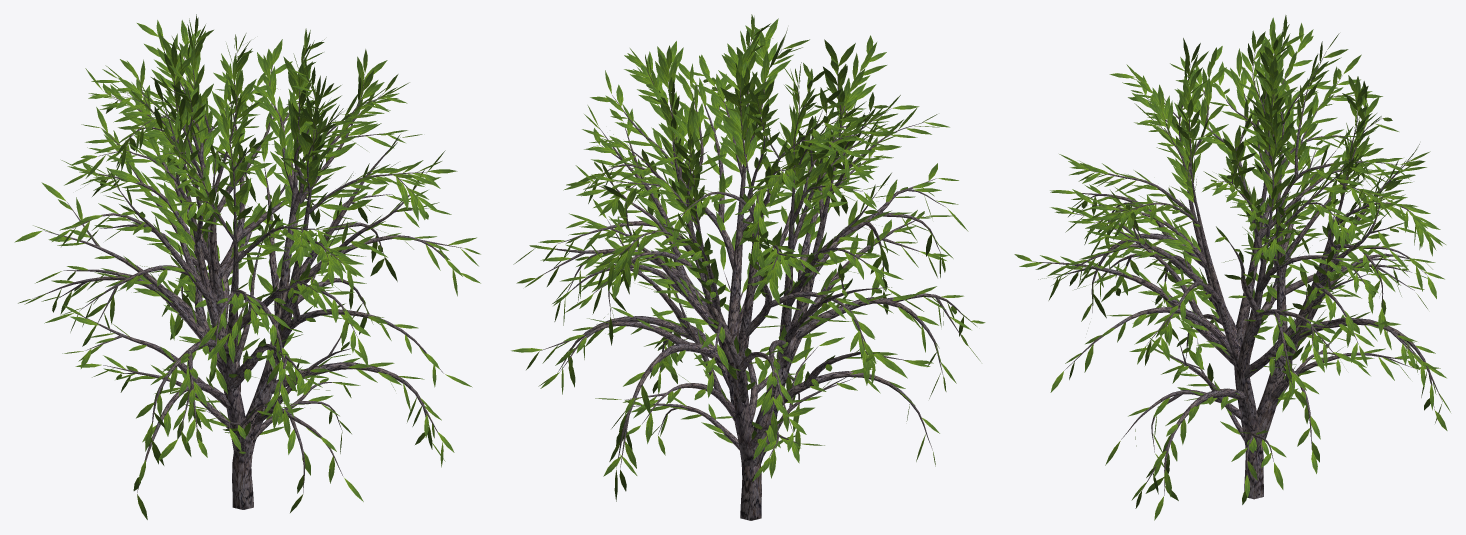
Rendered from tree.obj.
The picture shows the model from 3 angles, left to right: view 1: azimuth 30°, elevation 25°; view 2: azimuth 150°, elevation 25°; view 3: azimuth 270°, elevation 25°; orthographic projection. The views are drawn at different scales.
Parts seen in each view (by area): view 1: tree.019; view 2: tree.019; view 3: tree.019.
Part boxes in pixels (left/top/right/bottom): tree.019: left=14, top=14, right=480, bottom=519; tree.019: left=511, top=14, right=985, bottom=520; tree.019: left=1014, top=15, right=1450, bottom=520.
Size of the model in its own units: 5.61 by 6.45 by 5.79.
